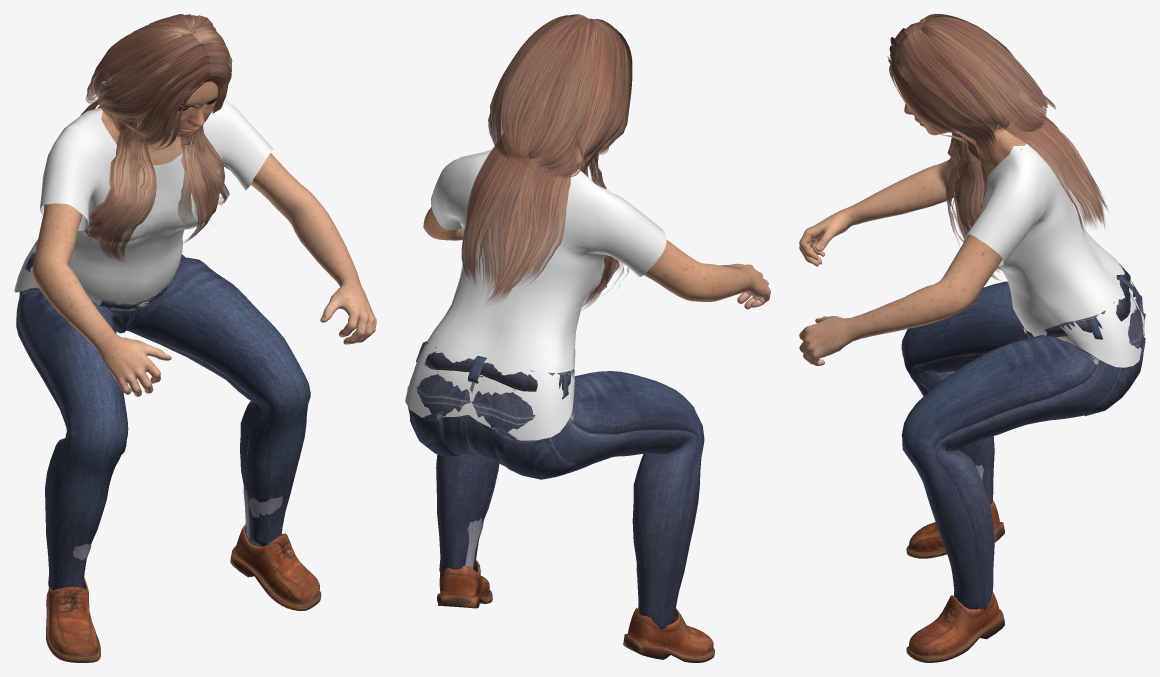
The model's file is donna-05.glb.
The picture shows the model from 3 angles, left to right: view 1: azimuth 30°, elevation 25°; view 2: azimuth 150°, elevation 25°; view 3: azimuth 270°, elevation 25°; orthographic projection. The views are drawn at different scales.
Parts seen in each view (by area): view 1: Human.punkduck_female_tight_jeans, Human.elvs_daisy_hair, Human.joepal_crude_t-shirt_female, Human, Human.shoes01; view 2: Human.punkduck_female_tight_jeans, Human.elvs_daisy_hair, Human.joepal_crude_t-shirt_female, Human.shoes01, Human; view 3: Human.punkduck_female_tight_jeans, Human.elvs_daisy_hair, Human.joepal_crude_t-shirt_female, Human, Human.shoes01.
Part boxes in pixels (<box>): Human.punkduck_female_tight_jeans: <box>16,242,310,590</box>; Human.elvs_daisy_hair: <box>80,14,232,261</box>; Human.joepal_crude_t-shirt_female: <box>14,99,273,310</box>; Human: <box>32,35,376,396</box>; Human.shoes01: <box>46,486,321,662</box>; Human.punkduck_female_tight_jeans: <box>407,341,704,629</box>; Human.elvs_daisy_hair: <box>461,14,632,310</box>; Human.joepal_crude_t-shirt_female: <box>405,149,666,440</box>; Human.shoes01: <box>437,518,714,662</box>; Human: <box>423,69,770,309</box>; Human.punkduck_female_tight_jeans: <box>901,263,1145,610</box>; Human.elvs_daisy_hair: <box>887,14,1108,280</box>; Human.joepal_crude_t-shirt_female: <box>964,113,1144,367</box>; Human: <box>799,104,1026,365</box>; Human.shoes01: <box>906,464,1004,662</box>.
Size of the model in its own units: 0.6136 by 1.25 by 0.6745.
Materials: 13 (13 with a texture image).
